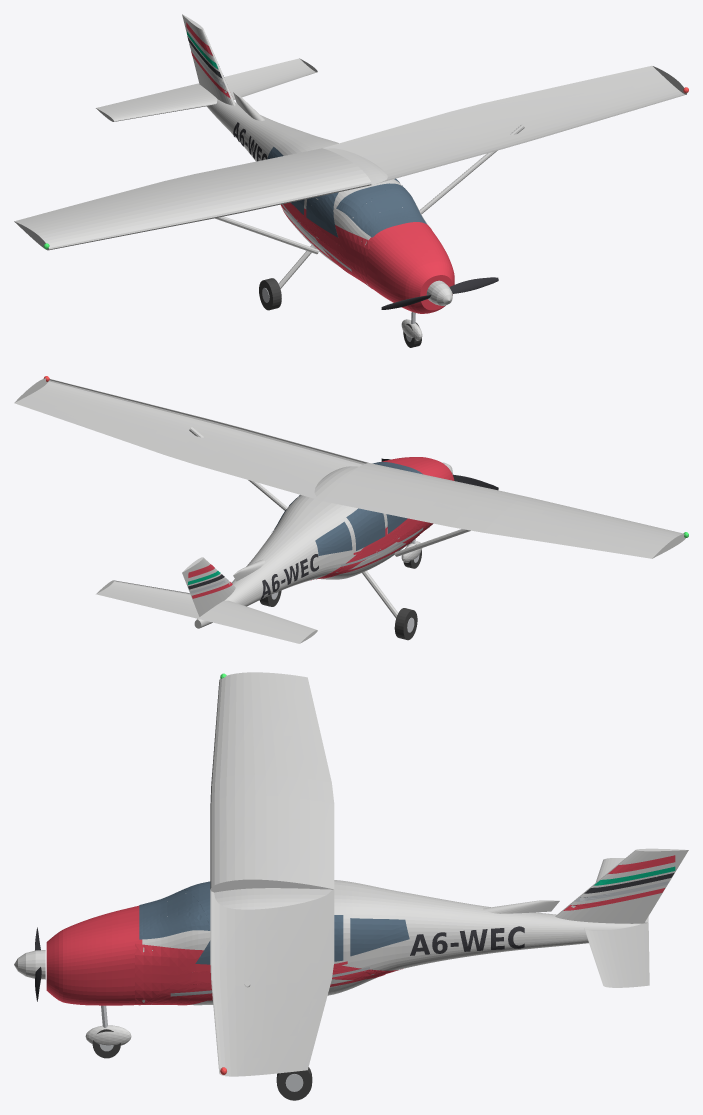
Rendered from aircraft-5.glb.
3 renders of one model, top to bottom at view 1: azimuth 30°, elevation 25°; view 2: azimuth 150°, elevation 25°; view 3: azimuth 270°, elevation 25°, orthographic. The views are drawn at different scales.
Parts seen in each view (by area): view 1: body_white, body_red, body_glass, propeller_black, body_tyre, body_black, propeller_white; view 2: body_white, body_red, body_glass, body_tyre, body_black; view 3: body_white, body_red, body_glass, body_black, body_tyre, propeller_white, body_gray.
Boxes of the visible parts, x1,y1,x2,y2 form: body_white: (14,14,686,340); body_red: (186,22,454,313); body_glass: (267,147,426,237); propeller_black: (381,277,498,309); body_tyre: (259,278,421,347); body_black: (187,36,266,161); propeller_white: (426,280,452,305); body_white: (14,378,685,643); body_red: (188,457,454,598); body_glass: (272,461,422,555); body_tyre: (259,543,421,640); body_black: (188,554,318,598); body_white: (85,672,688,1076); body_red: (46,855,675,1005); body_glass: (139,881,409,964); body_black: (410,873,674,955); body_tyre: (92,1029,312,1100); propeller_white: (14,950,45,979); body_gray: (170,881,669,996).
Size of the model in its own units: 9.5 by 2.3 by 6.83.
